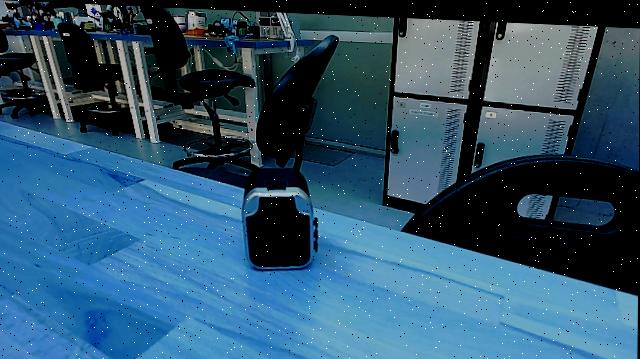adapter: (228, 158, 326, 275)
